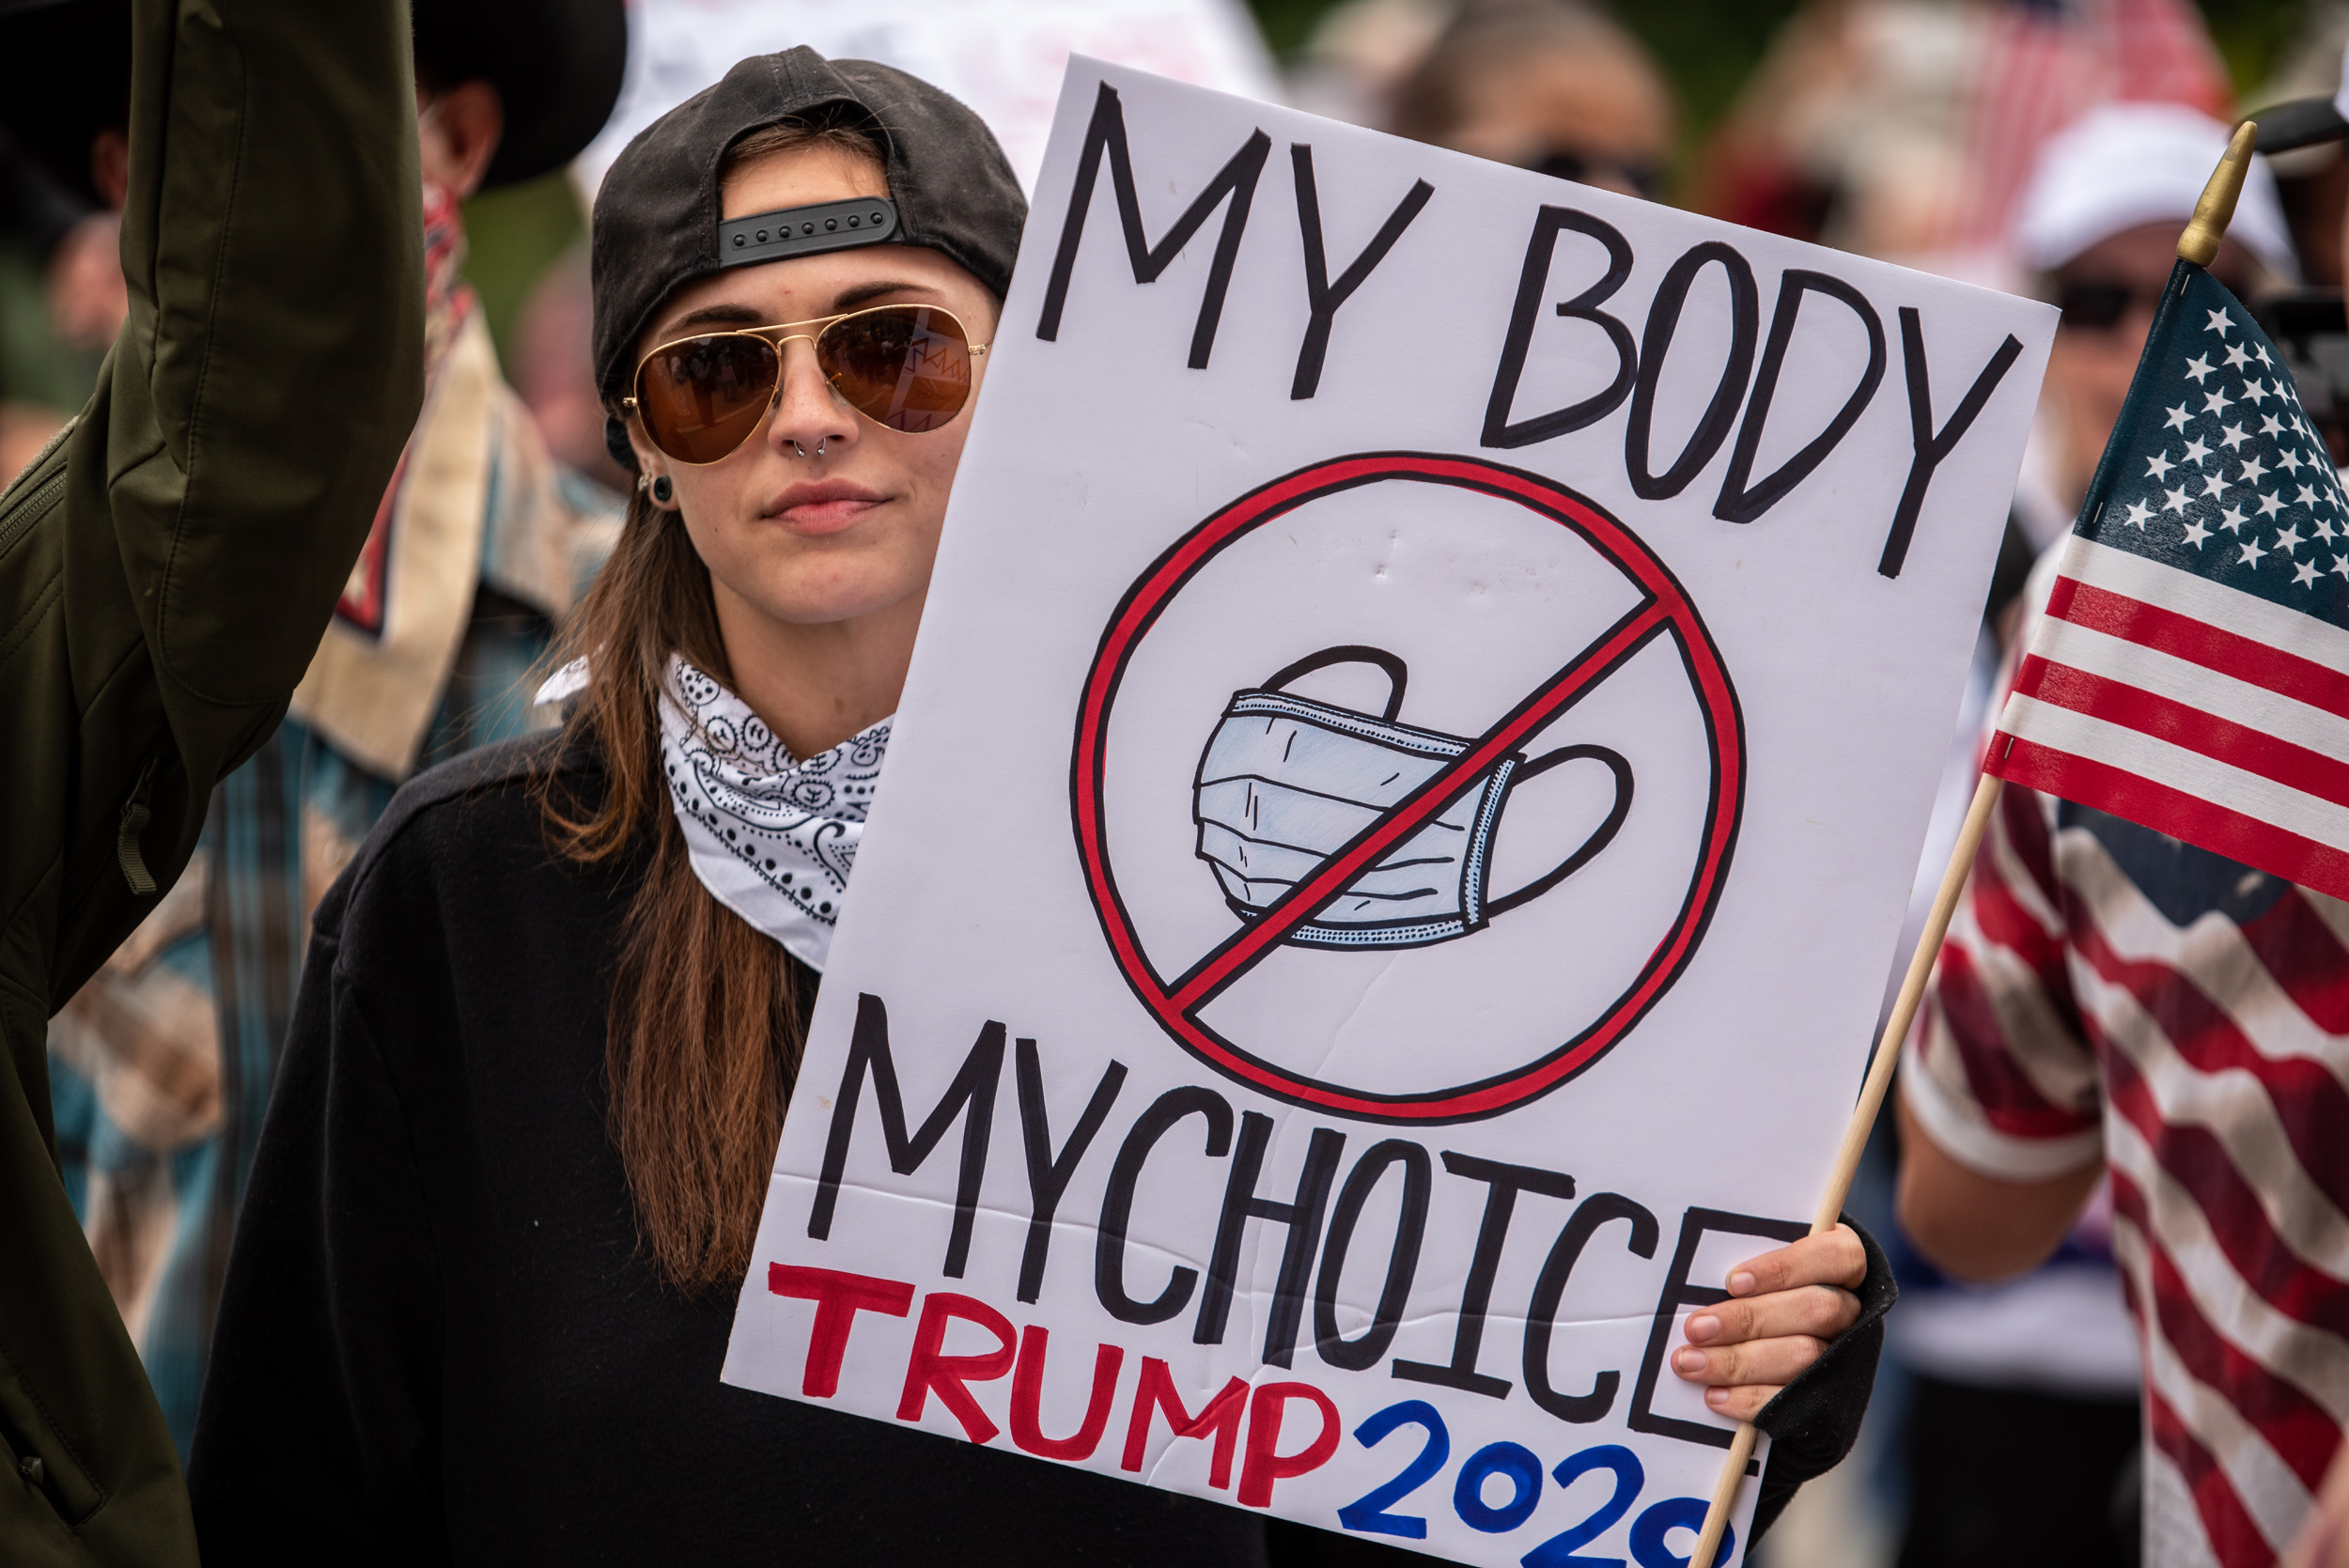without_mask: (651, 309, 950, 574)
